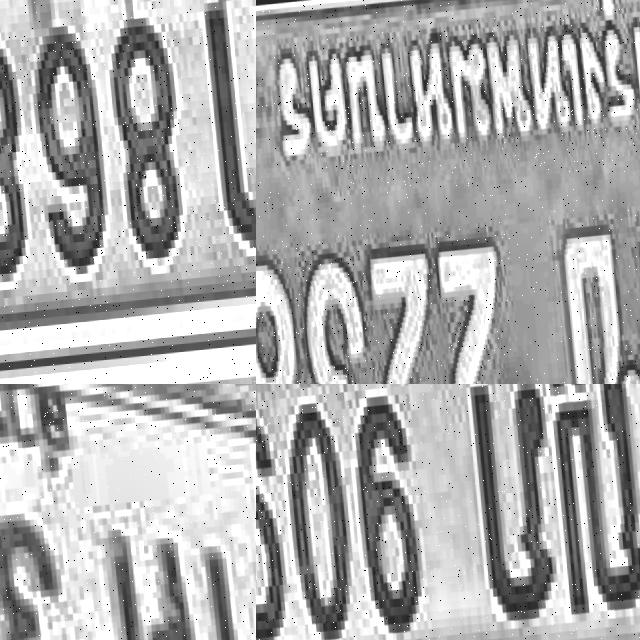license-plate: (256, 0, 640, 384), (256, 384, 640, 640), (0, 0, 256, 383), (0, 384, 256, 640)
